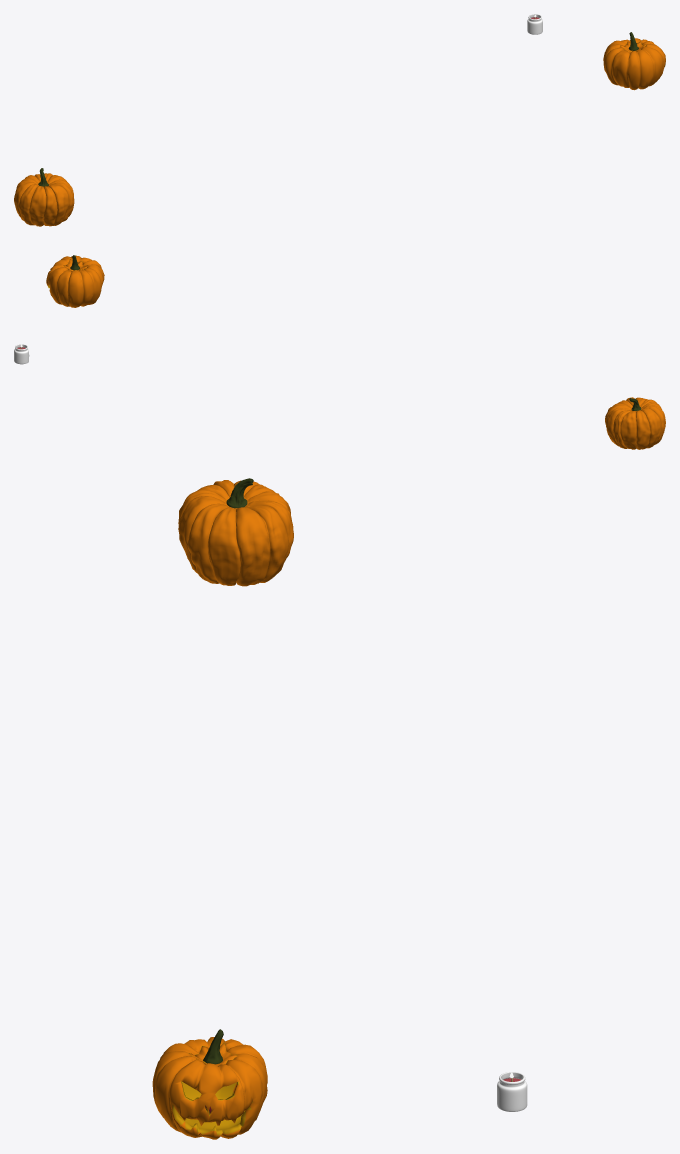
File: pumpkin.glb
3 renders of one model, top to bottom at view 1: azimuth 30°, elevation 25°; view 2: azimuth 150°, elevation 25°; view 3: azimuth 270°, elevation 25°, orthographic. The views are drawn at different scales.
Visible parts, largest first — view 1: Pumpkin, Plane.011; view 2: Pumpkin, Plane.011; view 3: Pumpkin, Plane.011, Bottle.001.
Boxes of the visible parts, left/top/right/bottom form: Pumpkin: left=14, top=168, right=74, bottom=226; Plane.011: left=603, top=38, right=665, bottom=90; Pumpkin: left=605, top=397, right=665, bottom=449; Plane.011: left=46, top=255, right=104, bottom=307; Pumpkin: left=178, top=478, right=293, bottom=586; Plane.011: left=152, top=1037, right=267, bottom=1139; Bottle.001: left=497, top=1072, right=527, bottom=1111.
Size of the model in its own units: 2.97 by 0.2216 by 0.782.
